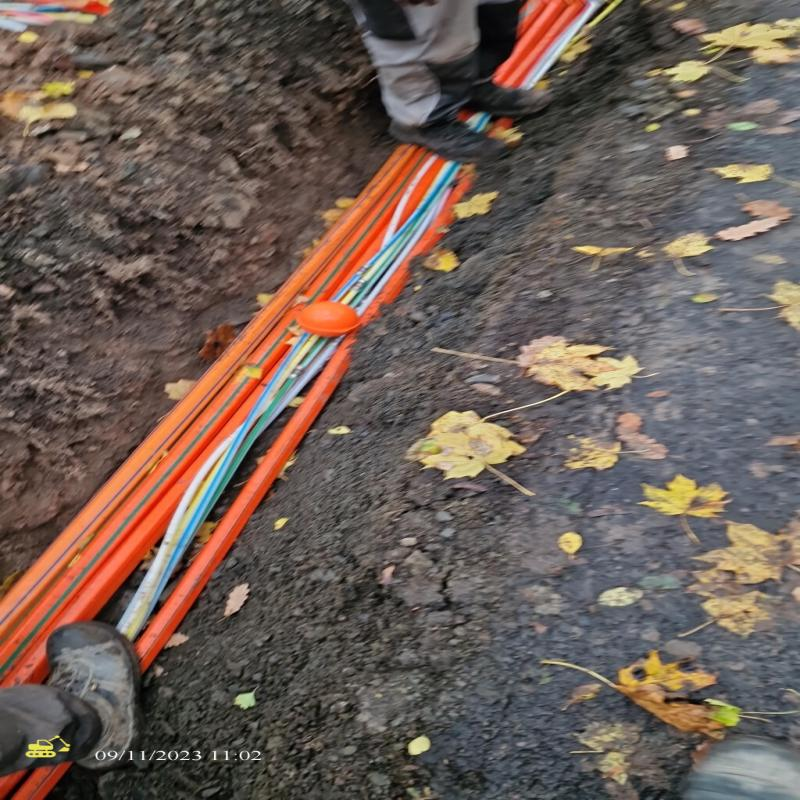Kugelmarker: (295, 302, 359, 337)
Orang-Speednetrohrchen: (13, 0, 602, 662)
